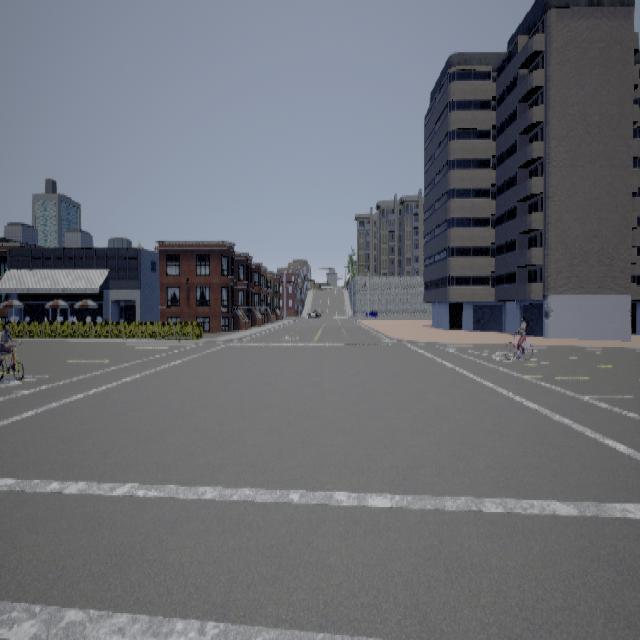bike: (499, 316, 537, 366), (0, 318, 26, 381)
